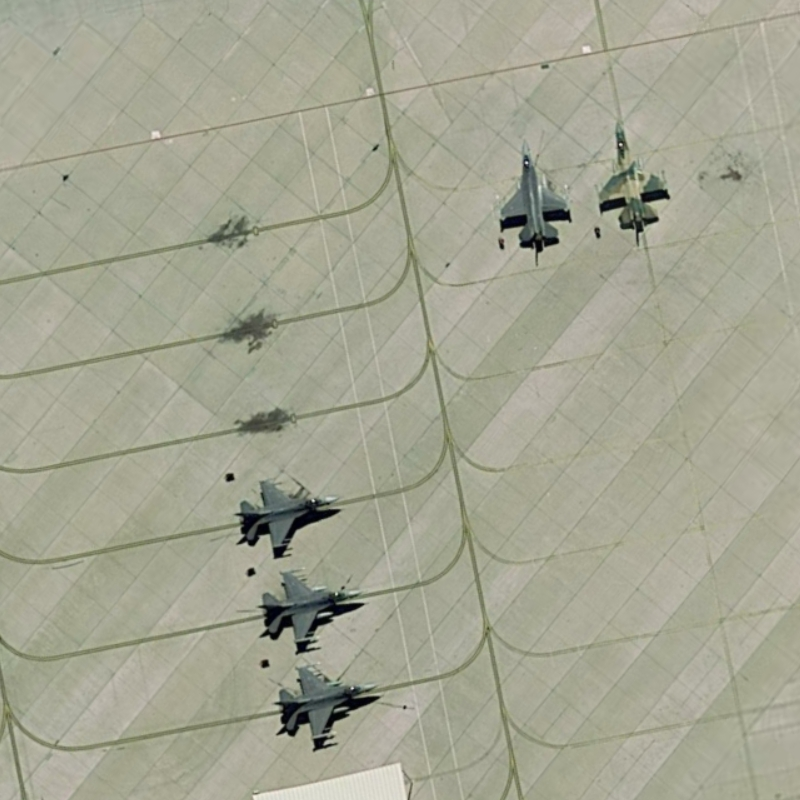A5: (490, 131, 580, 257), (228, 464, 338, 563), (594, 115, 681, 238), (272, 656, 379, 754), (253, 564, 368, 649)
